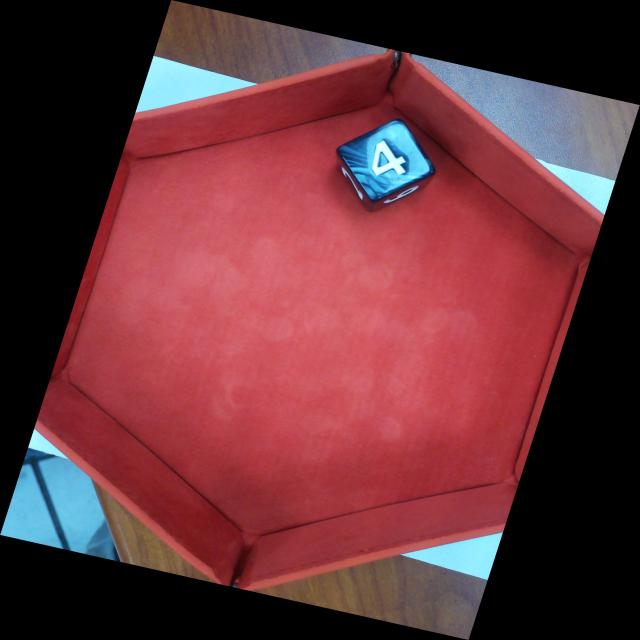dice: (327, 123, 441, 201)
